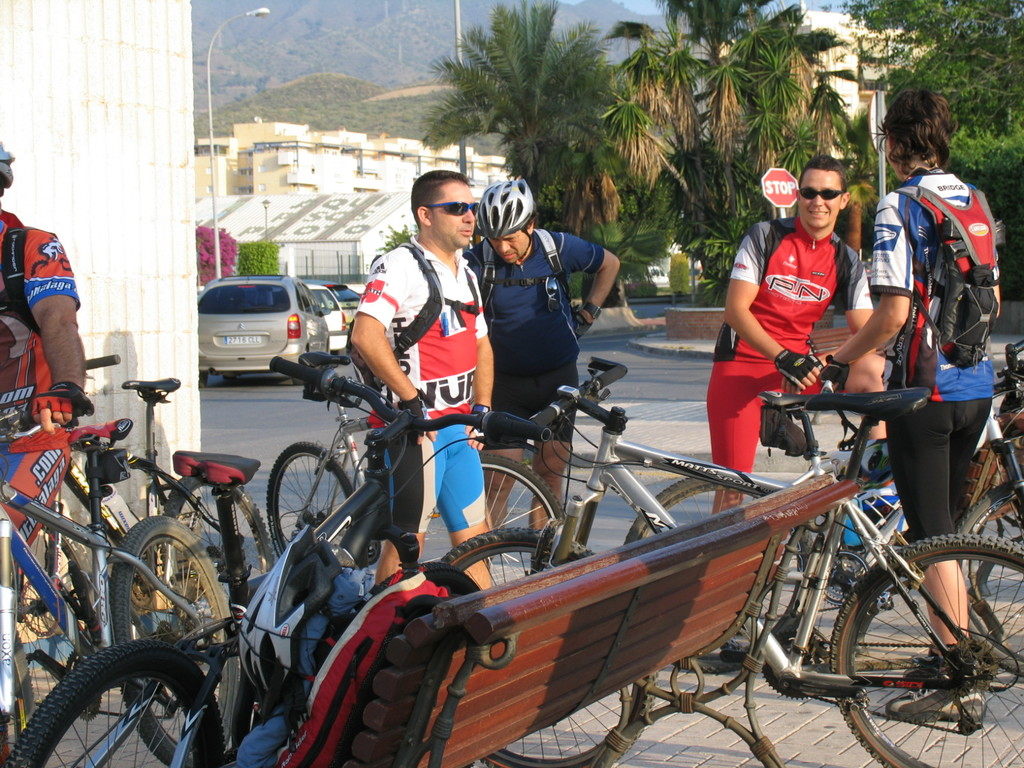Bicycle: (0, 337, 1023, 767), (12, 396, 330, 753)
